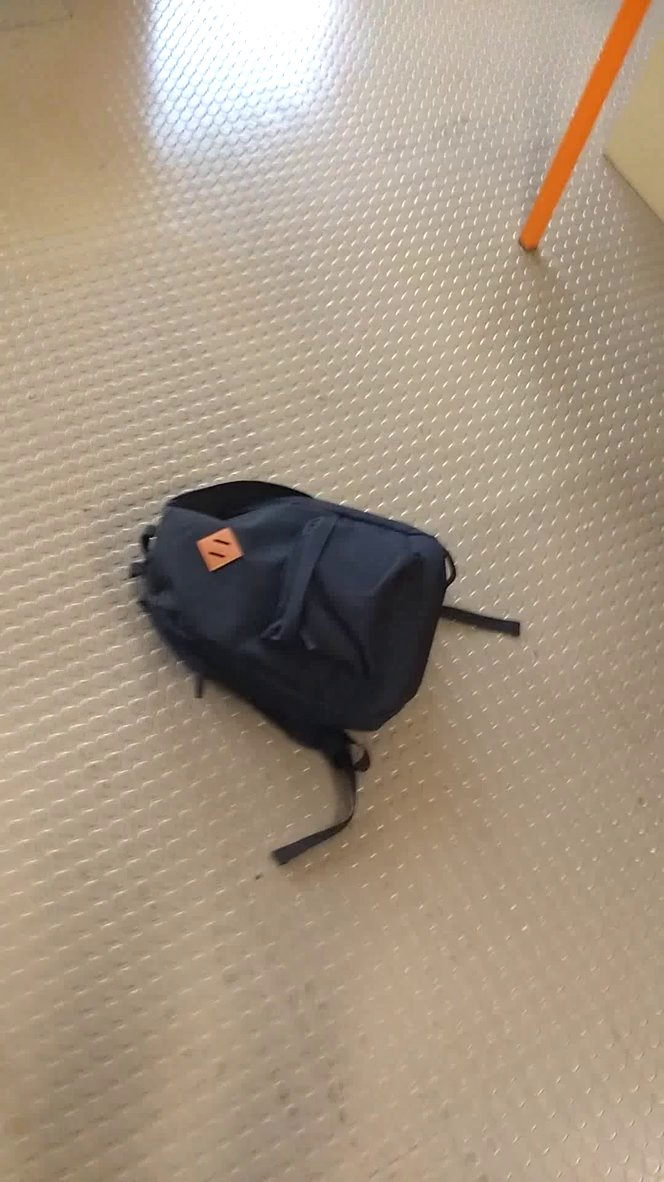bag: (124, 468, 543, 874)
